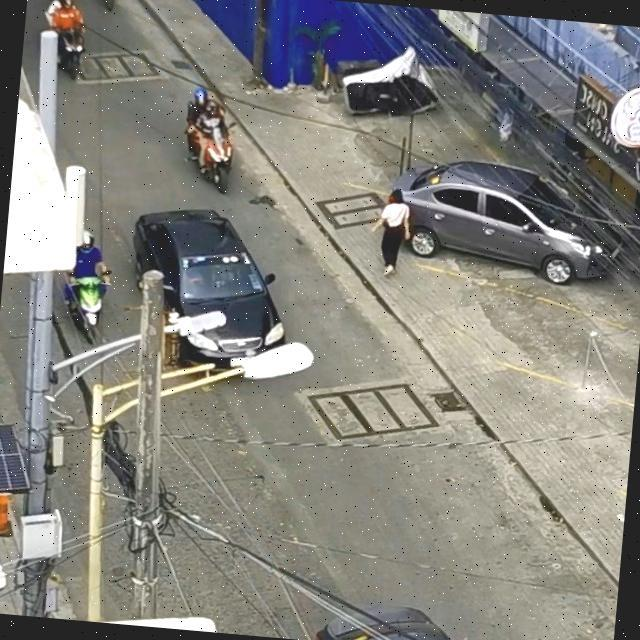Bike: (90, 0, 121, 12)
